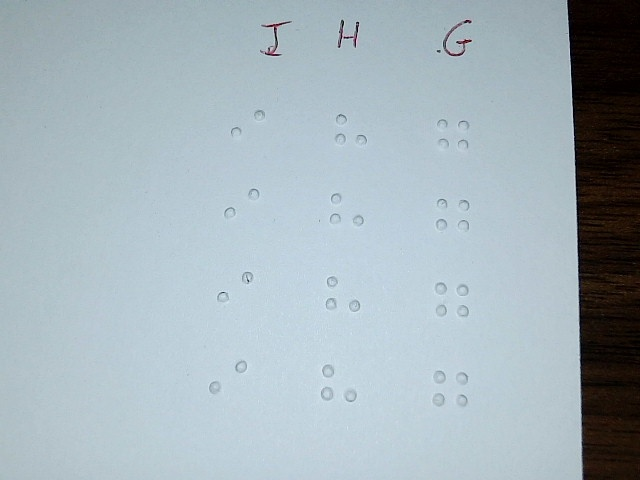G: (434, 108, 471, 166), (433, 189, 470, 247), (433, 273, 470, 331), (431, 362, 468, 420)
H: (319, 358, 359, 418), (333, 104, 370, 162), (329, 184, 366, 242), (324, 266, 361, 324)
I: (208, 350, 248, 411), (229, 99, 266, 157), (223, 178, 260, 236), (217, 262, 254, 320)
